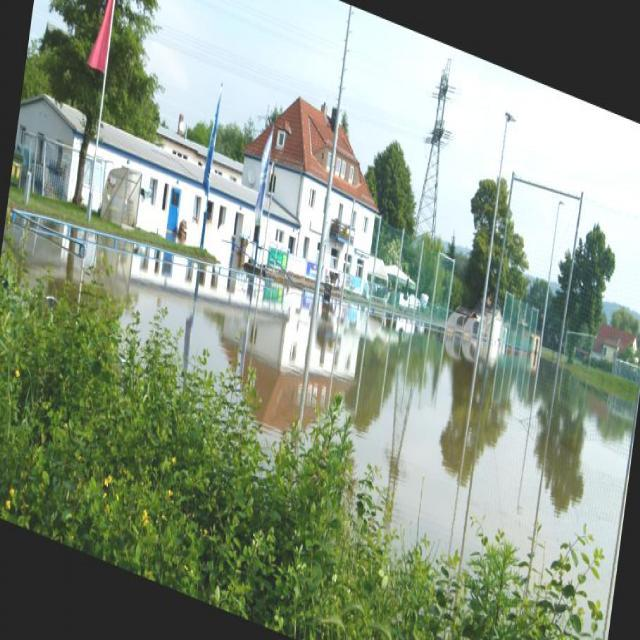flood: (0, 145, 639, 600)
